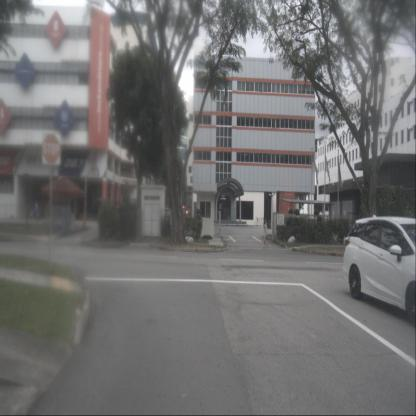human-pedestrian-adult: (263, 217, 268, 248)
vehicle-car: (343, 216, 416, 328), (179, 206, 188, 222)
